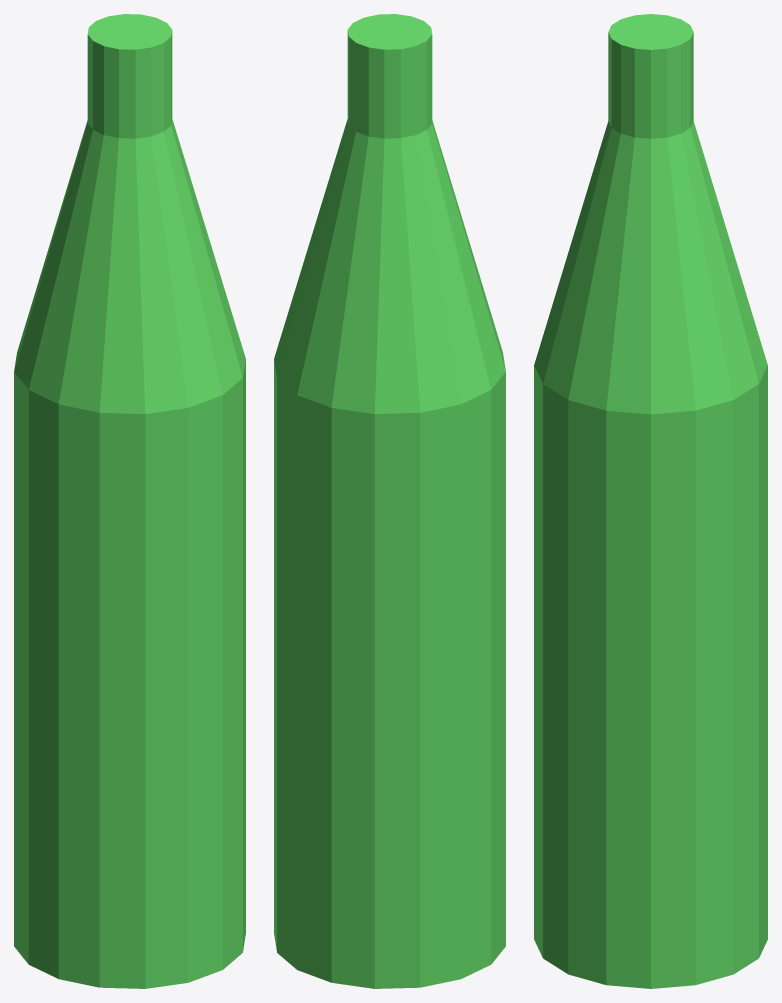
The model's file is bootle.fbx.
The picture shows the model from 3 angles, left to right: view 1: azimuth 30°, elevation 25°; view 2: azimuth 150°, elevation 25°; view 3: azimuth 270°, elevation 25°; orthographic projection.
Visible parts, largest first — view 1: bootle; view 2: bootle; view 3: bootle.
Part boxes in pixels (x1,y1,x2,y2): bootle: [14, 14, 245, 988]; bootle: [274, 14, 505, 988]; bootle: [534, 14, 767, 988].
Size of the model in its own units: 20.57 by 20.57 by 88.12.
